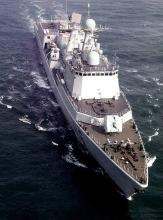warship: (37, 1, 151, 193)
